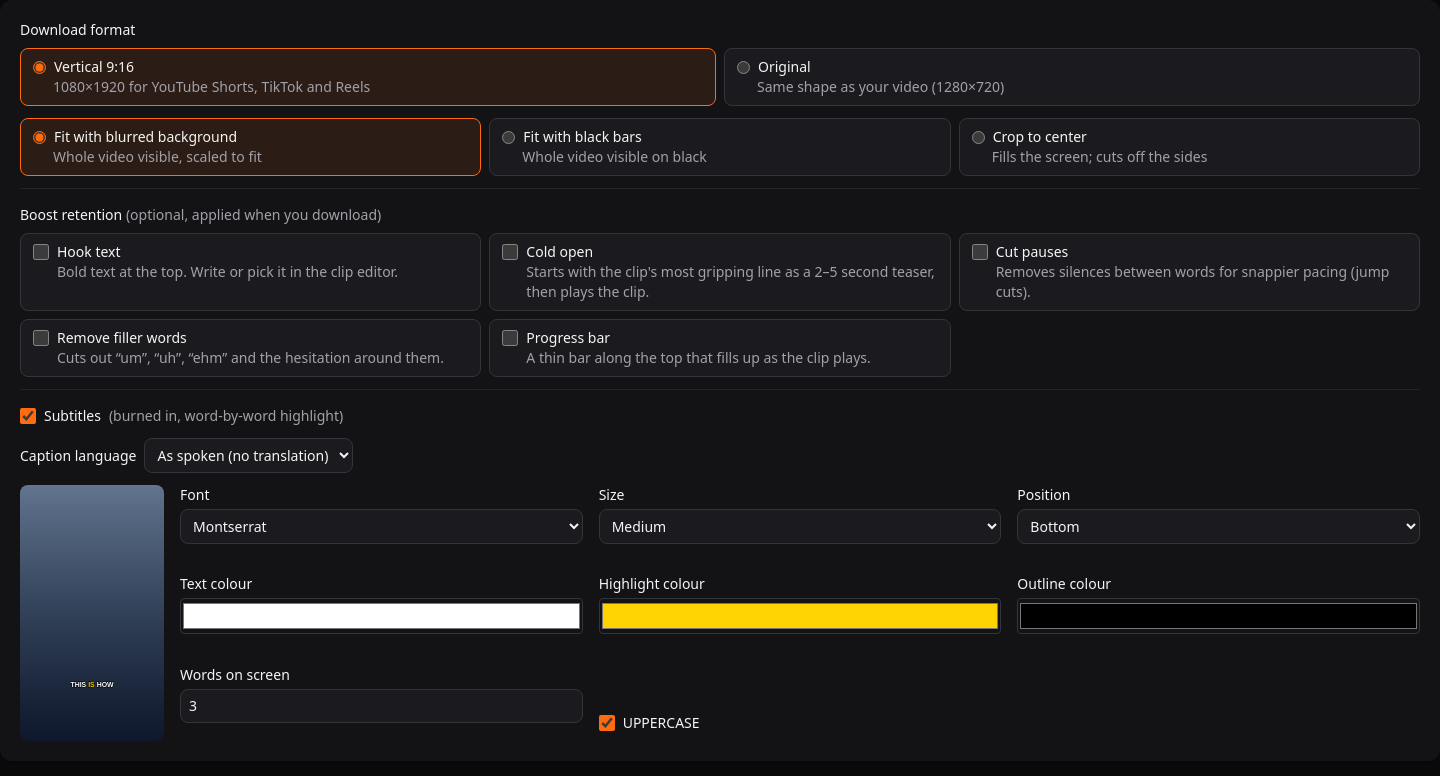
Test case: ClipsWorkspace › offers 1080p upscaling only for original format on low-res videos
Check: the checkbox labelled "upscale" is not shown
Click the radio button labelled "Original Same shape as your video (1280×720)".
click(744, 67)  # box 737,60 -> 750,74
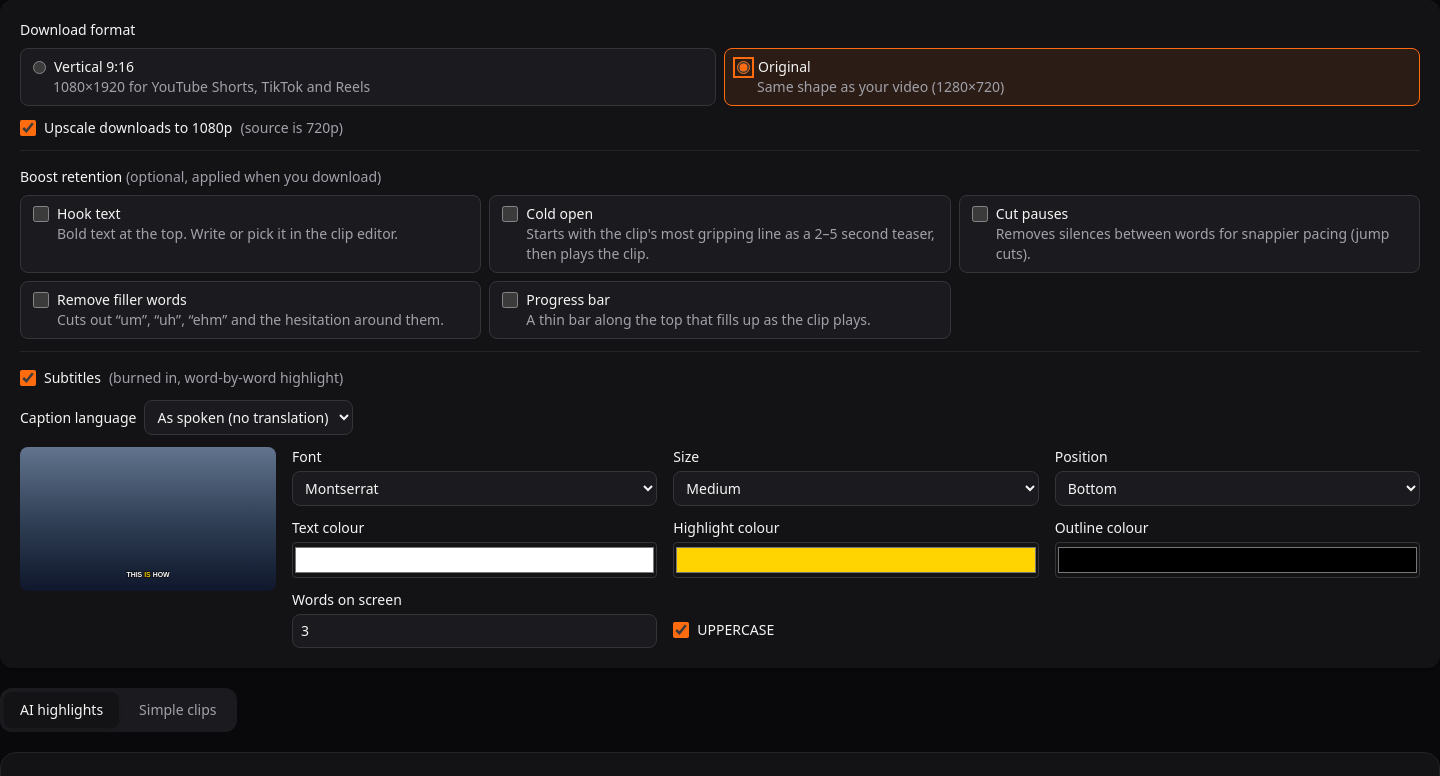
Check: the checkbox labelled "Upscale downloads to 1080p (source is 720p)" is checked, box 20,120 -> 36,136
Check: the text "(source is 720p)" is shown, box 240,118 -> 343,138
